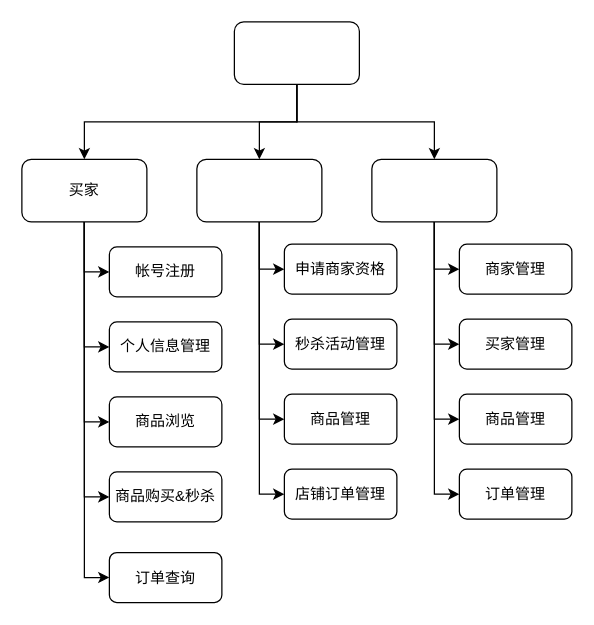
The diagram is 594 pixels wide and 625 high, and some of its shapes have lost their labels. The centre of each missing label's shape, as x and y in pixels:
"功能性需求" goes at [296,52].
"商家" goes at [259,190].
"管理员" goes at [434,190].
